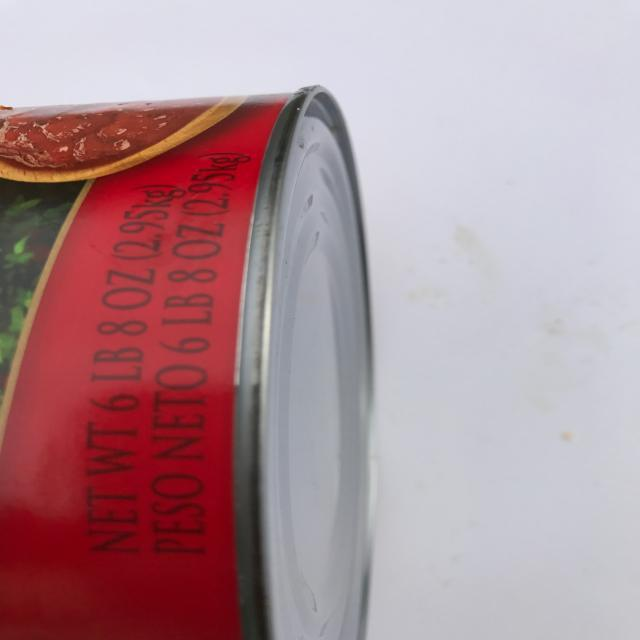metal: (1, 82, 376, 640)
